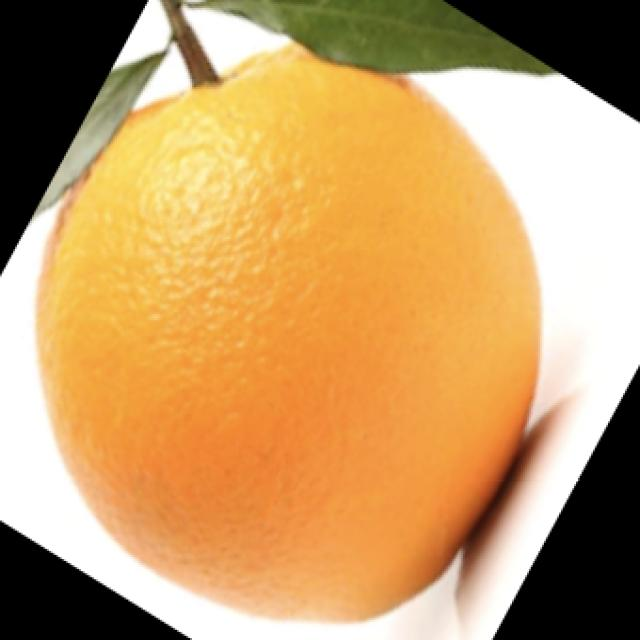matang: (36, 35, 542, 627)
